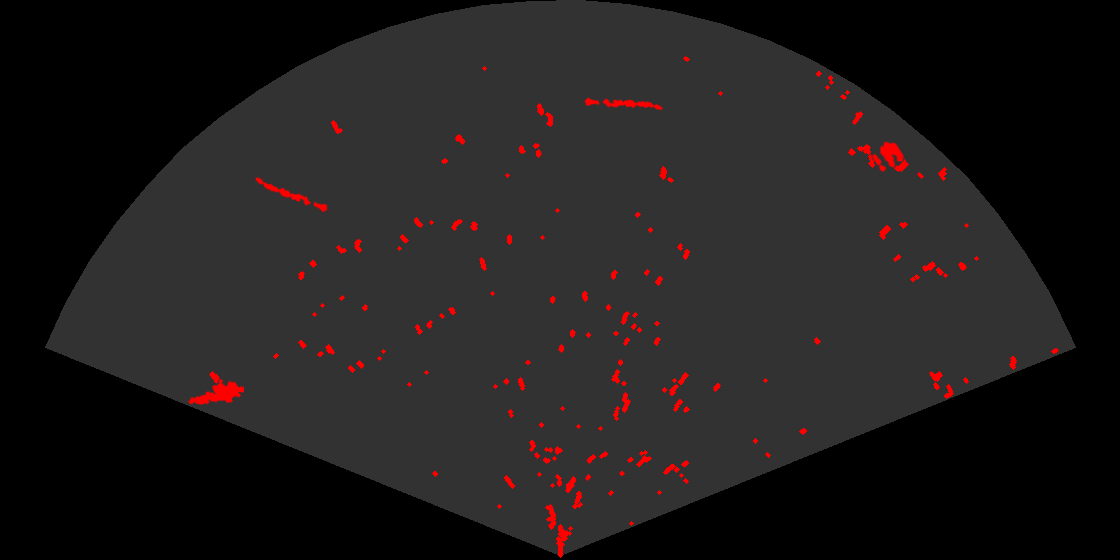ball: (871, 140, 906, 174)
chain: (253, 176, 331, 214), (583, 96, 663, 111)
frogman: (186, 377, 244, 406)
